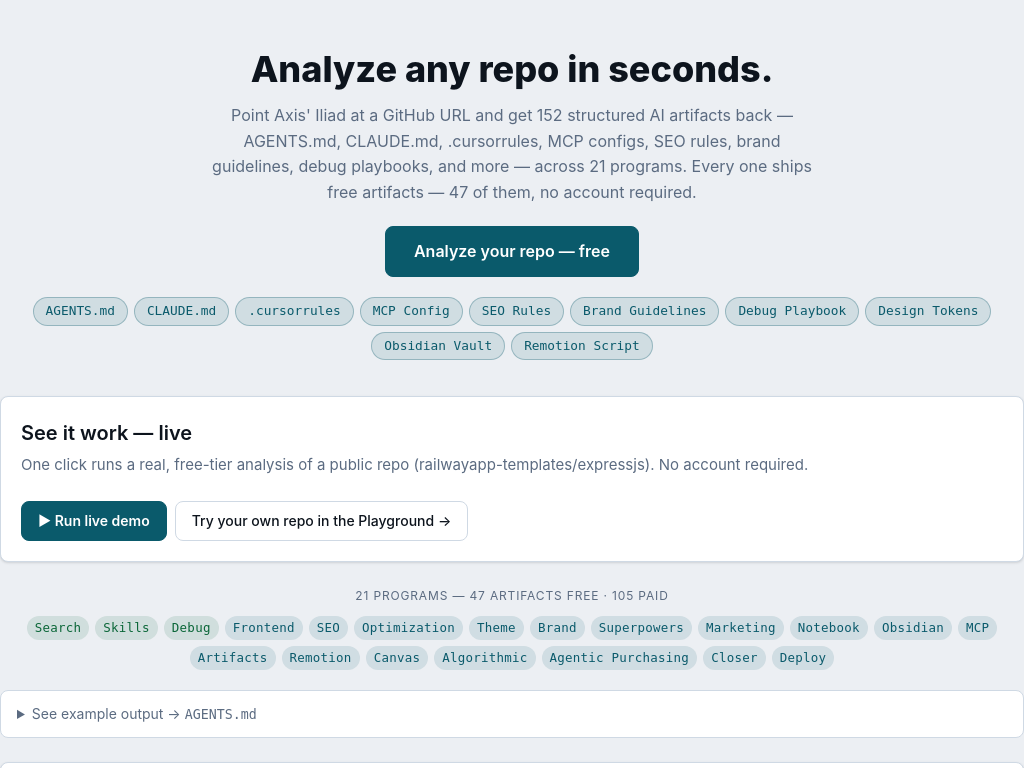
HomePage — live demo teaser + live stats (WO-P1) › runs a real anonymous demo analysis and shows the actual response — not canned data
Click the button "▶ Run live demo". click: (94, 521)
box: [21, 501, 167, 542]
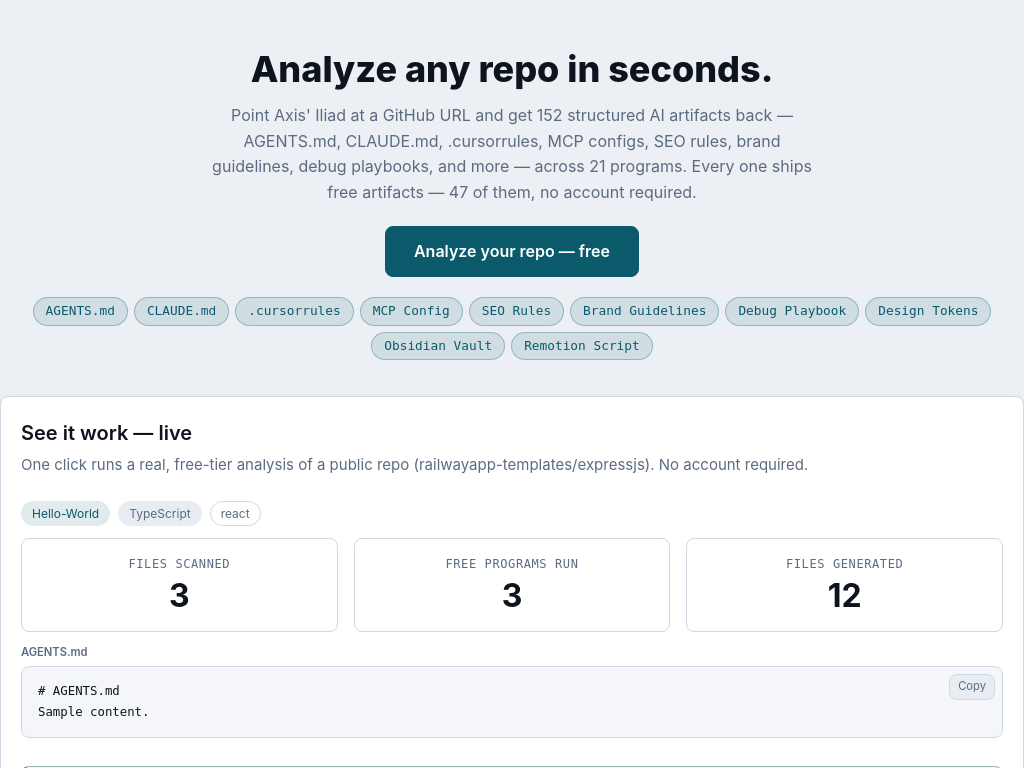
Check: the text "Hello-World" is shown, box [21, 501, 110, 526]
Check: the text "TypeScript" is shown, box [118, 501, 202, 526]
Check: the text "# AGENTS.md Sample content." is shown, box [38, 684, 150, 719]
